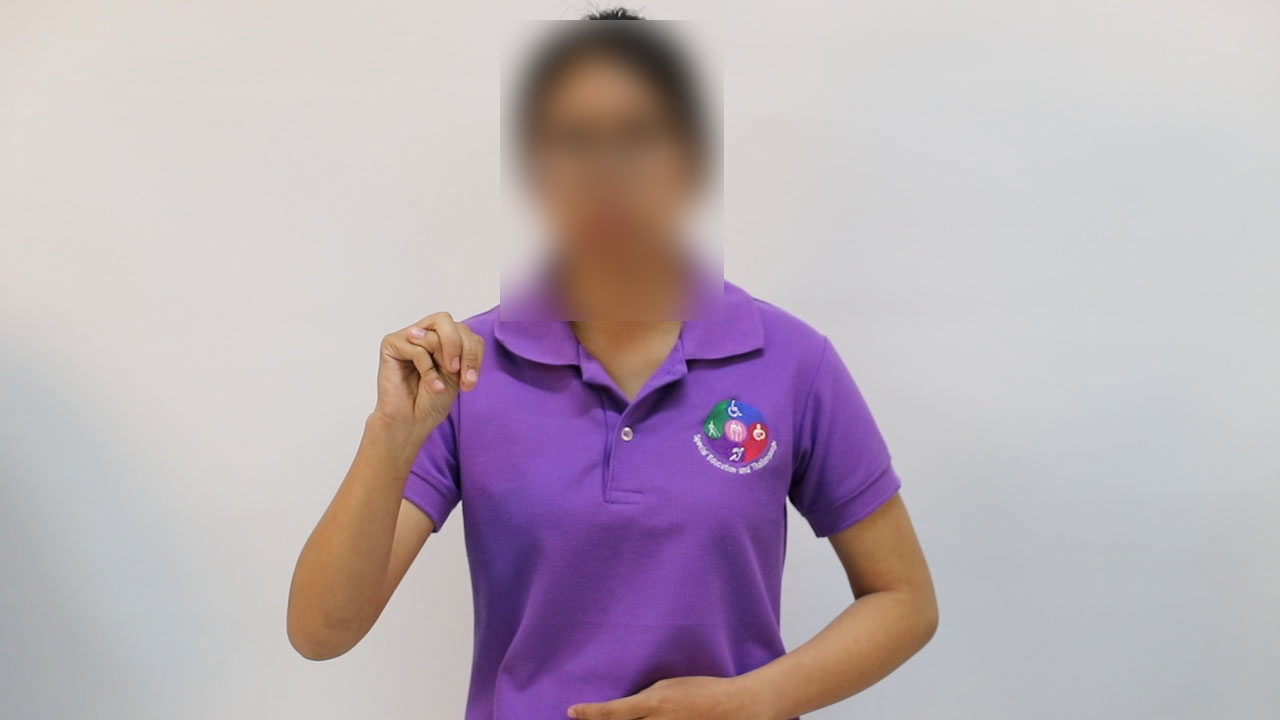mor: (359, 286, 496, 456)
